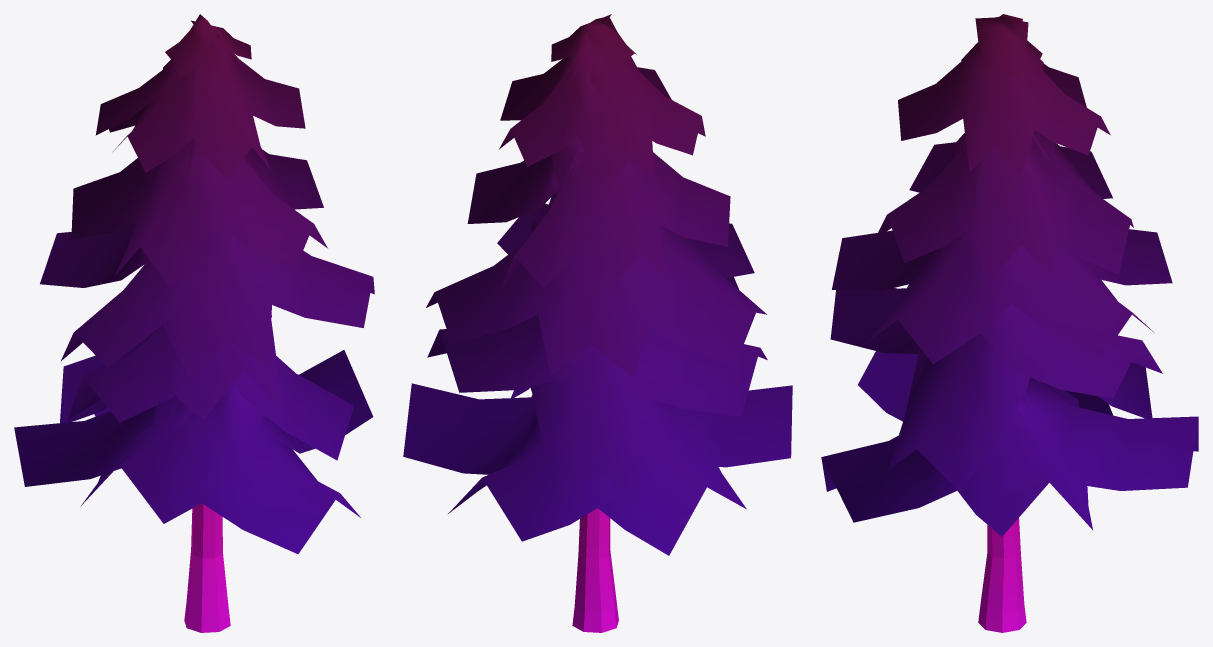
Rendered from synty-tree-pine-small-01.gltf.
3 views of the same model, side by side, from view 1: azimuth 30°, elevation 25°; view 2: azimuth 150°, elevation 25°; view 3: azimuth 270°, elevation 25° (orthographic).
Parts seen in each view (by area): view 1: SM_Tree_Pine_Small_01; view 2: SM_Tree_Pine_Small_01; view 3: SM_Tree_Pine_Small_01.
Boxes of the visible parts, x1,y1,x2,y2 form: SM_Tree_Pine_Small_01: (14,14,374,632); SM_Tree_Pine_Small_01: (403,14,792,632); SM_Tree_Pine_Small_01: (821,14,1198,632).
Size of the model in its own units: 2.01 by 3.48 by 1.96.
